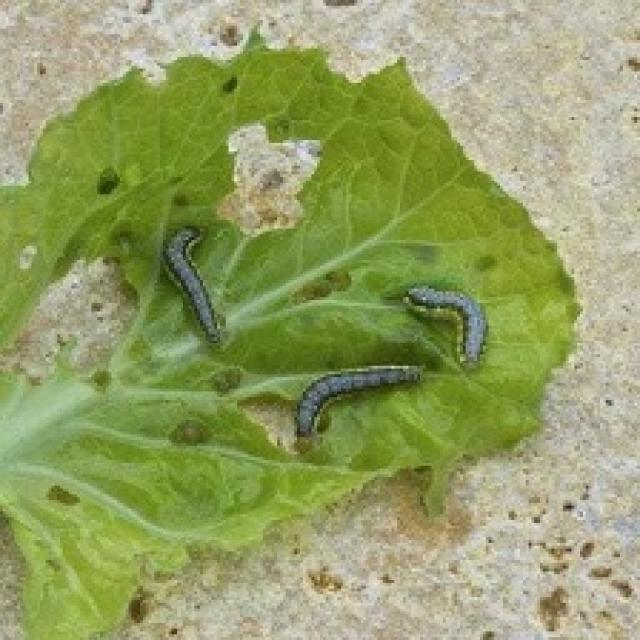worm: (292, 364, 421, 438), (161, 224, 221, 344), (404, 284, 487, 367)
